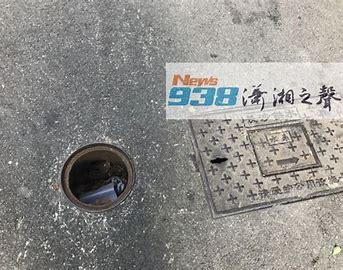wellcover: (61, 140, 137, 214)
